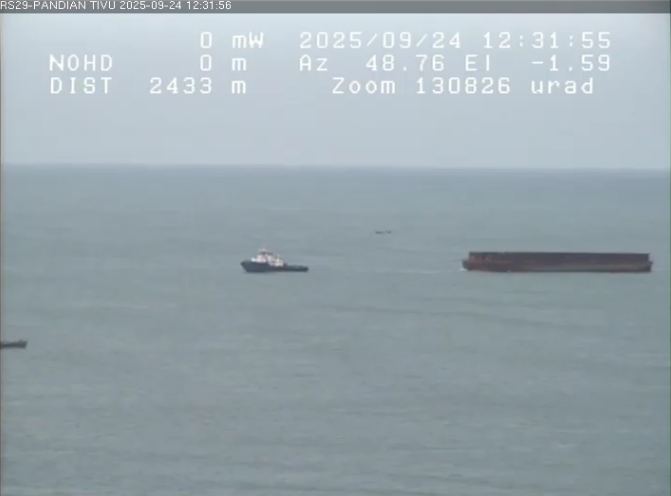BARGE: (442, 233, 661, 290)
FISHING_BOAT: (1, 332, 35, 354)
OFFSHORE_SUPPLY_VESSEL: (223, 233, 321, 276)
TOWING: (194, 193, 670, 338)
